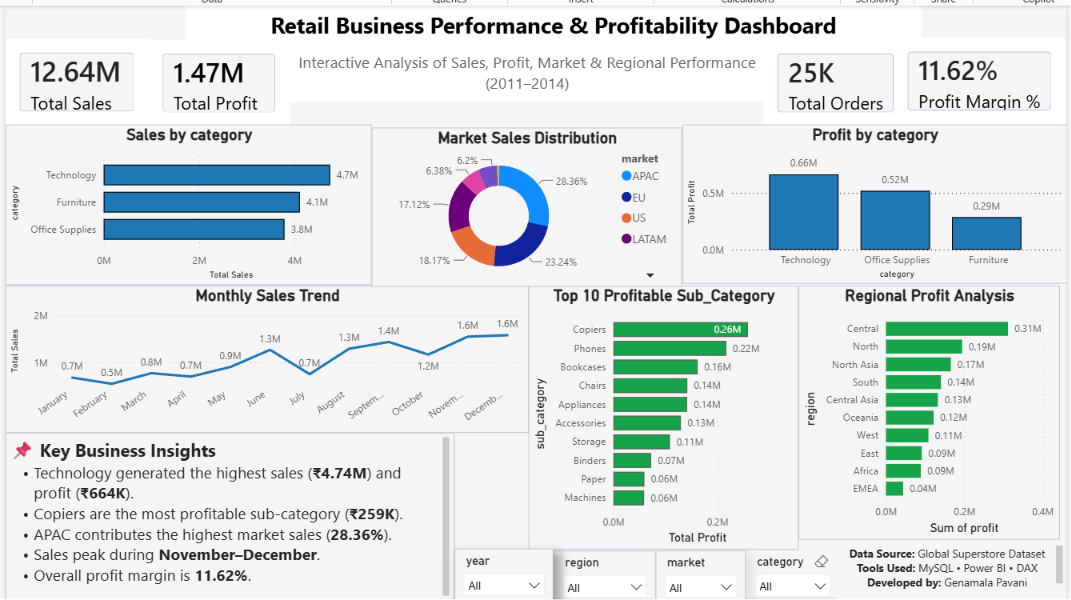

The page's visual inventory and layout, read from the dashboard file:
{"tool":"powerbi","page":{"name":"Dashboard","canvas":[1280,720],"ordinal":0},"visuals":[{"type":"cardVisual","fields":{"Data":["SuperStoreOrders.Total Sales"]},"box":[0,39.8,172.9,105.7],"z":0},{"type":"cardVisual","fields":{"Data":["SuperStoreOrders.Total Profit"]},"box":[172.9,41.2,170.2,105.7],"z":1000},{"type":"cardVisual","fields":{"Data":["SuperStoreOrders.Total Orders"]},"box":[913.9,41.2,174.3,105.7],"z":2000},{"type":"cardVisual","fields":{"Data":["SuperStoreOrders.Profit Margin %"]},"box":[1071.7,38.4,207.2,105.7],"z":3000},{"type":"clusteredBarChart","title":"Sales by category","fields":{"Category":["SuperStoreOrders.category"],"Y":["SuperStoreOrders.Total Sales"]},"box":[0,144.1,441.9,193.5],"z":4000},{"type":"clusteredColumnChart","title":" Profit by category","fields":{"Category":["SuperStoreOrders.category"],"Y":["SuperStoreOrders.Total Profit"]},"box":[816.5,144.1,463.8,192.1],"z":5000},{"type":"lineChart","title":"Monthly Sales Trend","fields":{"Category":["SuperStoreOrders.Month Name"],"Y":["SuperStoreOrders.Total Sales"]},"box":[0,337.8,631,177.3],"z":6000},{"type":"clusteredBarChart","title":"Regional Profit Analysis","fields":{"Y":["Sum(SuperStoreOrders.profit)"],"Category":["SuperStoreOrders.region"]},"box":[956.7,337.8,314.9,306.4],"z":7000},{"type":"clusteredBarChart","title":"Top 10 Profitable Sub_Category","fields":{"Category":["SuperStoreOrders.sub_category"],"Y":["SuperStoreOrders.Total Profit"]},"box":[631,337.8,325.7,318.5],"z":8000},{"type":"slicer","fields":{"Values":["SuperStoreOrders.category"]},"box":[892.8,656.3,113.4,59.1],"z":10000},{"type":"donutChart","title":"Market Sales Distribution","fields":{"Category":["SuperStoreOrders.market"],"Y":["SuperStoreOrders.Total Sales"]},"box":[441.9,146.8,374.6,192.1],"z":11000},{"type":"textbox","box":[217.7,0,887.8,51.4],"z":12000},{"type":"slicer","fields":{"Values":["SuperStoreOrders.region"]},"box":[661.1,657.5,123.1,59.1],"z":13000},{"type":"slicer","fields":{"Values":["SuperStoreOrders.market"]},"box":[784.2,657.5,108.6,62.7],"z":14000},{"type":"textbox","box":[1000.1,646.7,279.9,73.6],"z":15000},{"type":"textbox","box":[343.1,50.8,573.6,65.9],"z":16000},{"type":"textbox","box":[0,515.2,541.7,205.1],"z":17000},{"type":"slicer","fields":{"Values":["SuperStoreOrders.year"]},"box":[542,654.5,119.4,65.9],"z":17001}]}

Visuals, with their boxes on the page's 1280x720 design canvas (x1, y1, x2, y2). These are canvas units, not pixel positions in the 1071x600 screenshot, which may show the page scaled, cropped or inside an application window:
cardVisual - SuperStoreOrders.Total Sales: <bbox>0, 40, 173, 146</bbox>
cardVisual - SuperStoreOrders.Total Profit: <bbox>173, 41, 343, 147</bbox>
cardVisual - SuperStoreOrders.Total Orders: <bbox>914, 41, 1088, 147</bbox>
cardVisual - SuperStoreOrders.Profit Margin %: <bbox>1072, 38, 1279, 144</bbox>
"Sales by category" clusteredBarChart: <bbox>0, 144, 442, 338</bbox>
" Profit by category" clusteredColumnChart: <bbox>816, 144, 1280, 336</bbox>
"Monthly Sales Trend" lineChart: <bbox>0, 338, 631, 515</bbox>
"Regional Profit Analysis" clusteredBarChart: <bbox>957, 338, 1272, 644</bbox>
"Top 10 Profitable Sub_Category" clusteredBarChart: <bbox>631, 338, 957, 656</bbox>
slicer - SuperStoreOrders.category: <bbox>893, 656, 1006, 715</bbox>
"Market Sales Distribution" donutChart: <bbox>442, 147, 816, 339</bbox>
textbox: <bbox>218, 0, 1106, 51</bbox>
slicer - SuperStoreOrders.region: <bbox>661, 658, 784, 717</bbox>
slicer - SuperStoreOrders.market: <bbox>784, 658, 893, 720</bbox>
textbox: <bbox>1000, 647, 1280, 720</bbox>
textbox: <bbox>343, 51, 917, 117</bbox>
textbox: <bbox>0, 515, 542, 720</bbox>
slicer - SuperStoreOrders.year: <bbox>542, 654, 661, 720</bbox>
